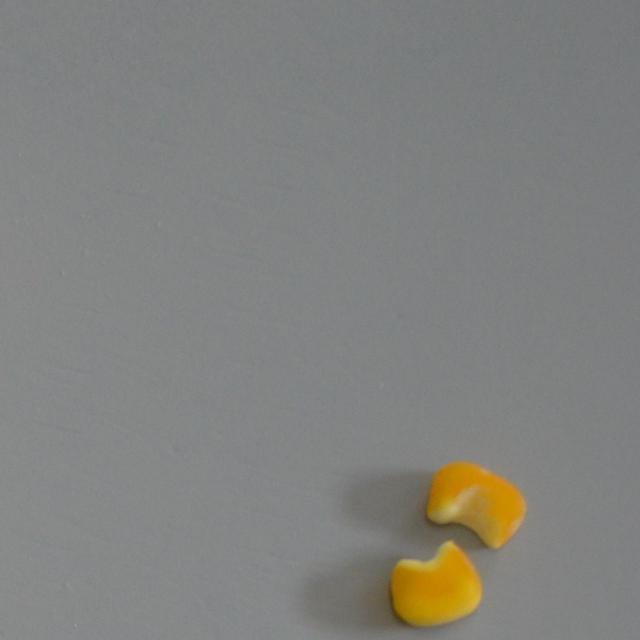no_canjicado: (388, 540, 482, 628)
pelicula: (426, 460, 528, 550)
